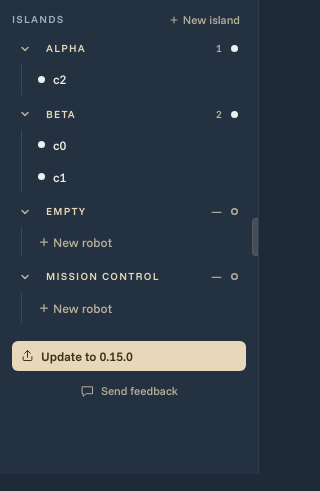
Scenario: the sidebar names a waiting update under the islands, and its press installs it
Click the button with test id "sidebar-update".
click(129, 356)  # box [12,341,246,371]
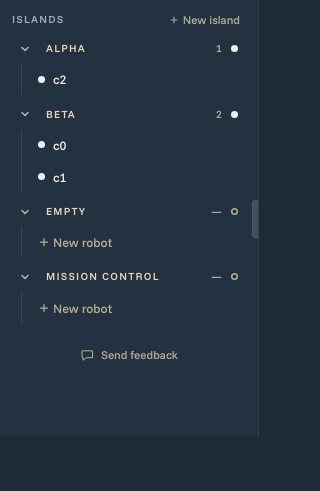
Expected: the button with test id "sidebar-update" is gone
